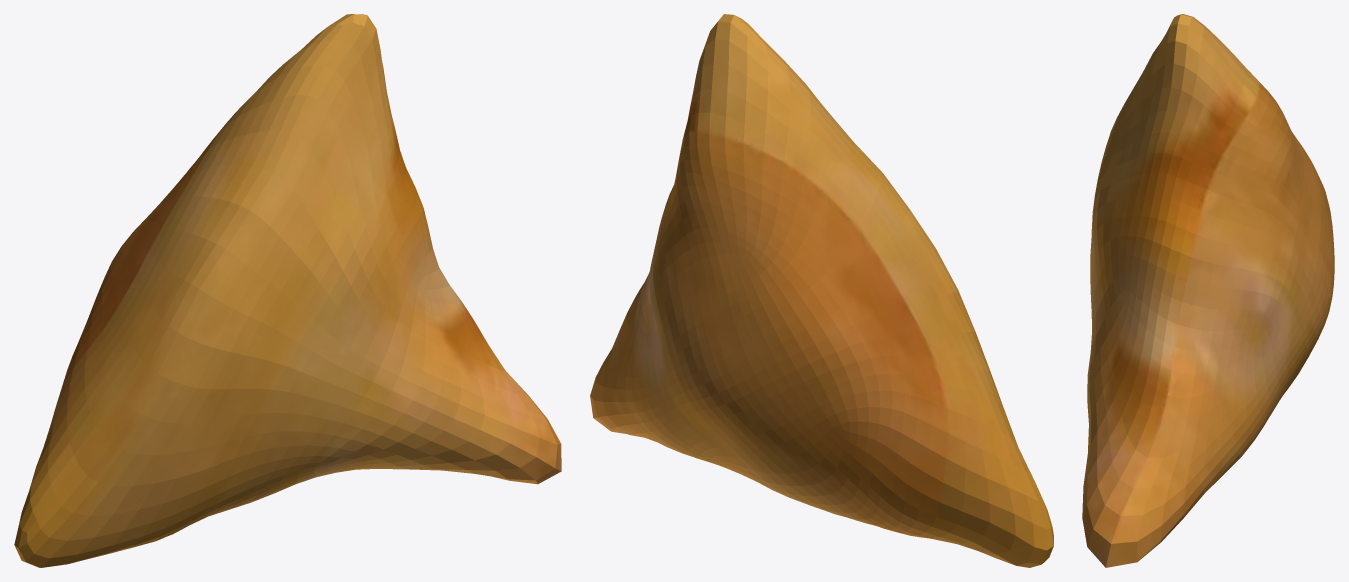
The model's file is landmark_samosa.glb.
3 views of the same model, side by side, from view 1: azimuth 30°, elevation 25°; view 2: azimuth 150°, elevation 25°; view 3: azimuth 270°, elevation 25° (orthographic).
Parts seen in each view (by area): view 1: pCube1_2; view 2: pCube1_2; view 3: pCube1_2.
Boxes of the visible parts, left/top/right/bottom form: pCube1_2: left=14, top=14, right=561, bottom=567; pCube1_2: left=590, top=14, right=1053, bottom=567; pCube1_2: left=1082, top=14, right=1334, bottom=567.
Size of the model in its own units: 1.09 by 1 by 0.4734.
1 material, 1 textured.
